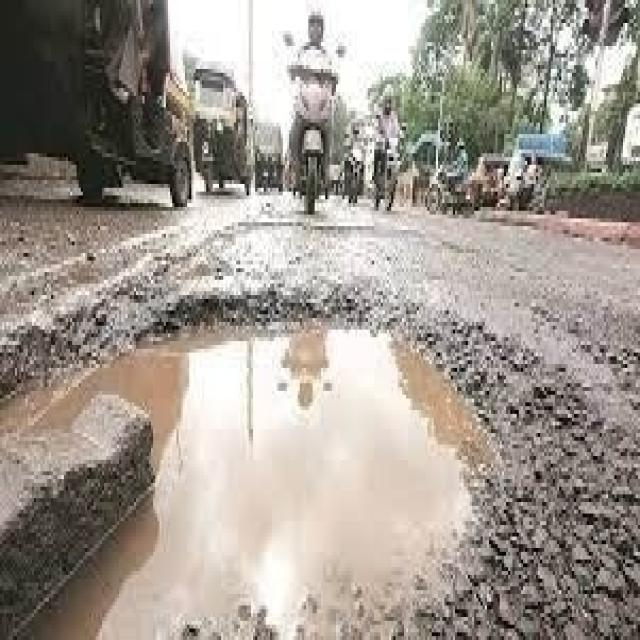road-pothole: (1, 282, 508, 636)
